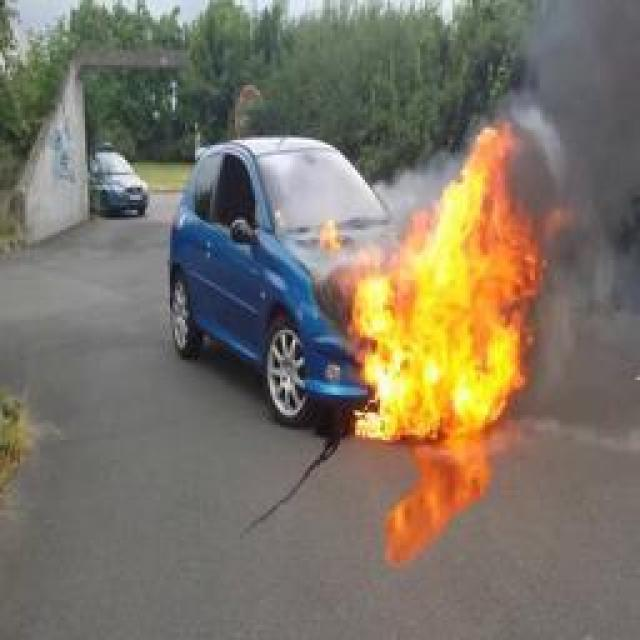Fire: (328, 124, 546, 438)
